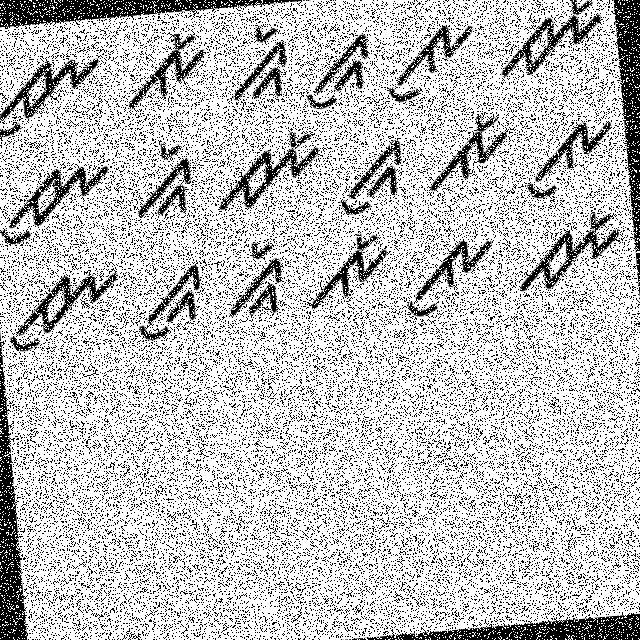ar: (112, 22, 215, 112), (300, 224, 392, 319), (422, 106, 516, 196)
aw: (390, 222, 498, 325), (378, 9, 482, 106), (520, 104, 618, 204)
nggar: (219, 15, 298, 104), (222, 230, 290, 328), (127, 140, 198, 227)
nggaw: (126, 253, 207, 349), (331, 134, 414, 221), (301, 28, 376, 118)
njar: (208, 120, 326, 226), (508, 208, 628, 298), (492, 0, 609, 88)
njaw: (2, 254, 132, 370), (0, 147, 119, 259), (0, 45, 106, 142)
